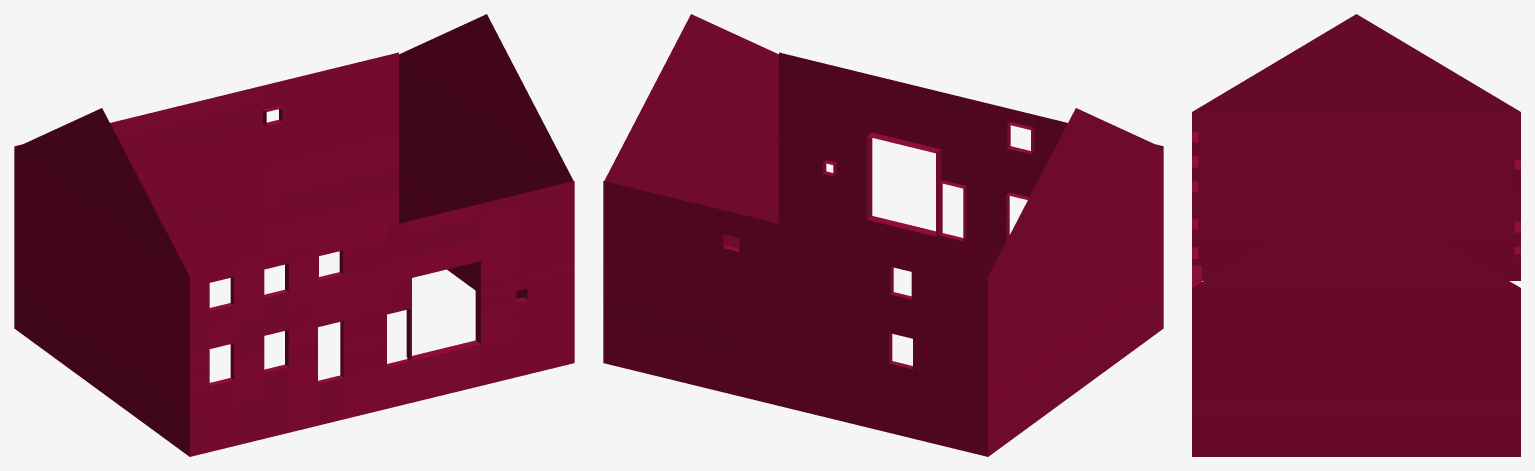
Rendered from SM_Bld_148_Masonry.glb.
3 renders of one model, left to right at view 1: azimuth 30°, elevation 25°; view 2: azimuth 150°, elevation 25°; view 3: azimuth 270°, elevation 25°, orthographic. The views are drawn at different scales.
Visible parts, largest first — view 1: SM_Bld_148_Masonry; view 2: SM_Bld_148_Masonry; view 3: SM_Bld_148_Masonry.
Part boxes in pixels (box(x1,y1,x2,y2)): SM_Bld_148_Masonry: box(14, 14, 574, 456); SM_Bld_148_Masonry: box(603, 14, 1163, 456); SM_Bld_148_Masonry: box(1192, 14, 1520, 456).
Bounding box in the file's own units: 14.52 × 10.27 × 11.47.
